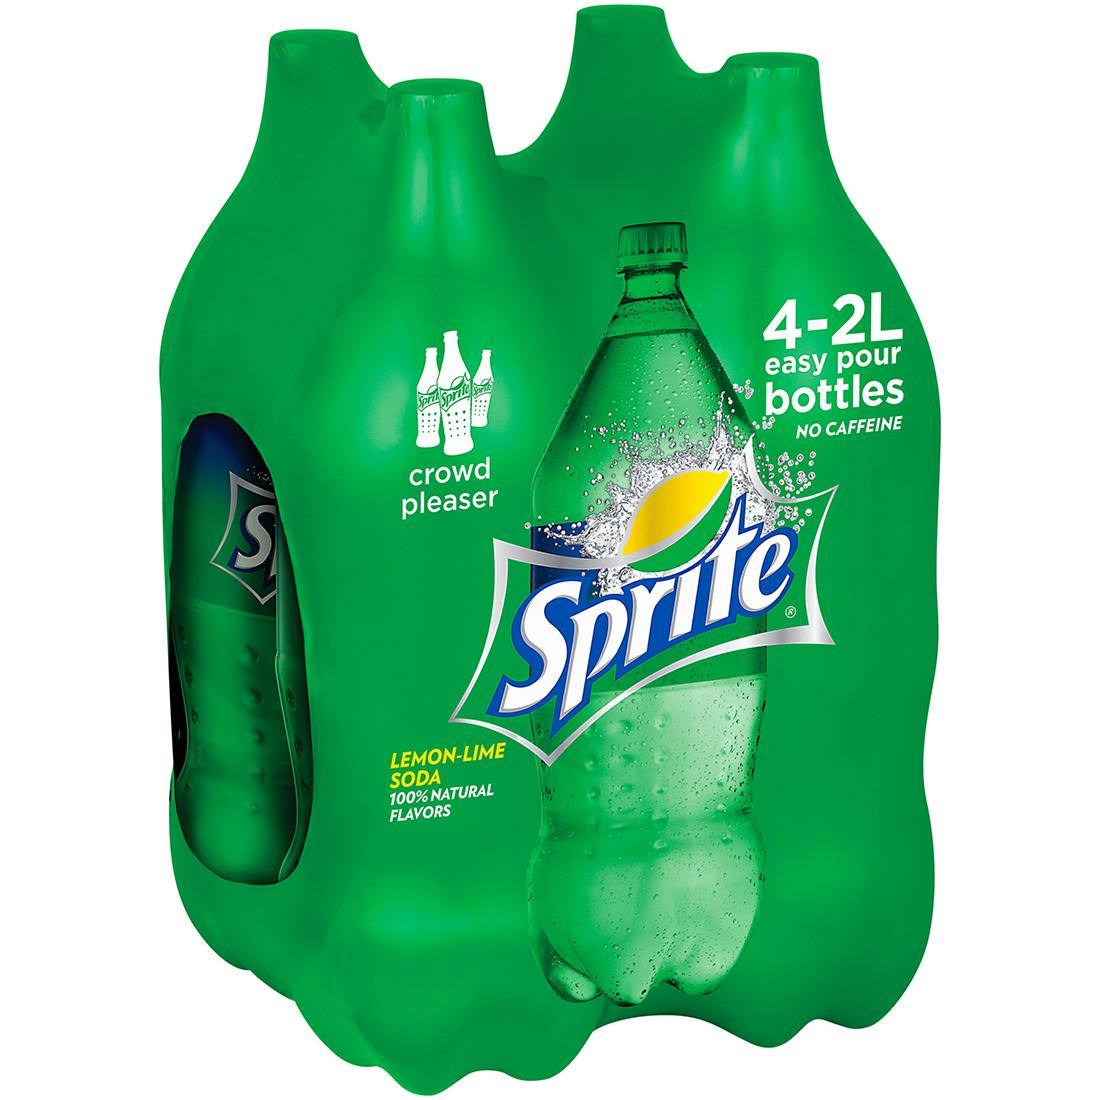Sprite: (519, 224, 780, 1016)
